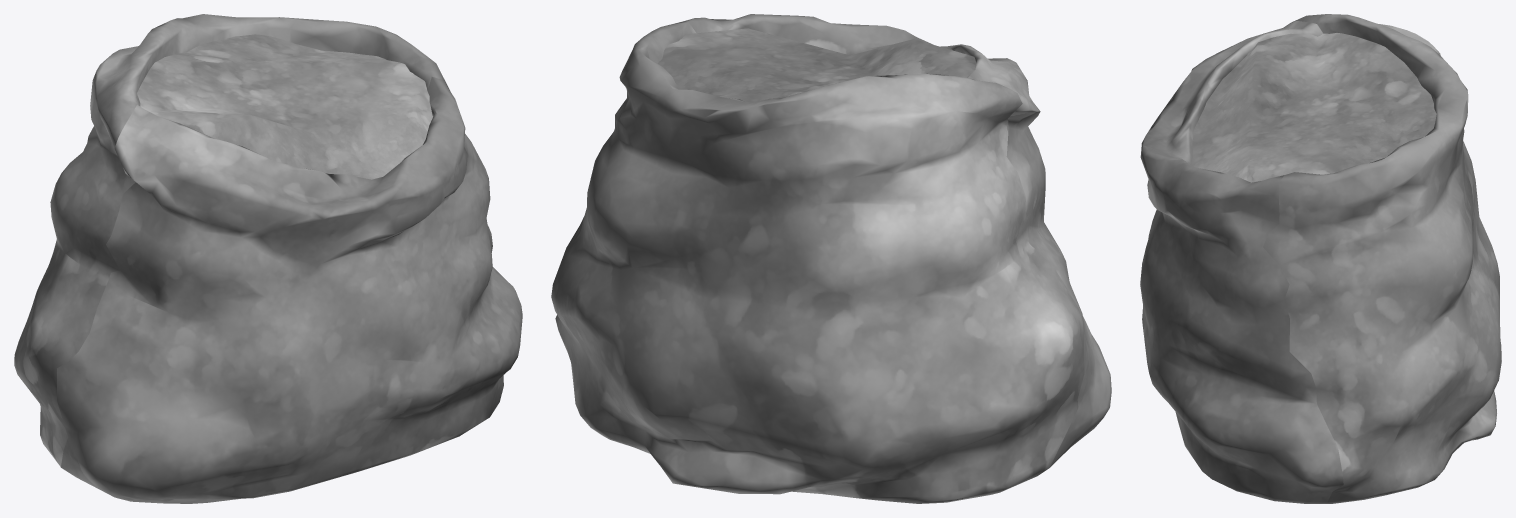
The model's file is SM_FoodSac_01b.fbx.
3 renders of one model, left to right at view 1: azimuth 30°, elevation 25°; view 2: azimuth 150°, elevation 25°; view 3: azimuth 270°, elevation 25°, orthographic. The views are drawn at different scales.
Visible parts, largest first — view 1: SM_FoodSac_01b_LOD0; view 2: SM_FoodSac_01b_LOD0; view 3: SM_FoodSac_01b_LOD0.
Part boxes in pixels (left/top/right/bottom): SM_FoodSac_01b_LOD0: left=14, top=14, right=522, bottom=503; SM_FoodSac_01b_LOD0: left=551, top=14, right=1111, bottom=503; SM_FoodSac_01b_LOD0: left=1140, top=14, right=1501, bottom=503.
Size of the model in its own units: 91.93 by 65.23 by 70.02.
